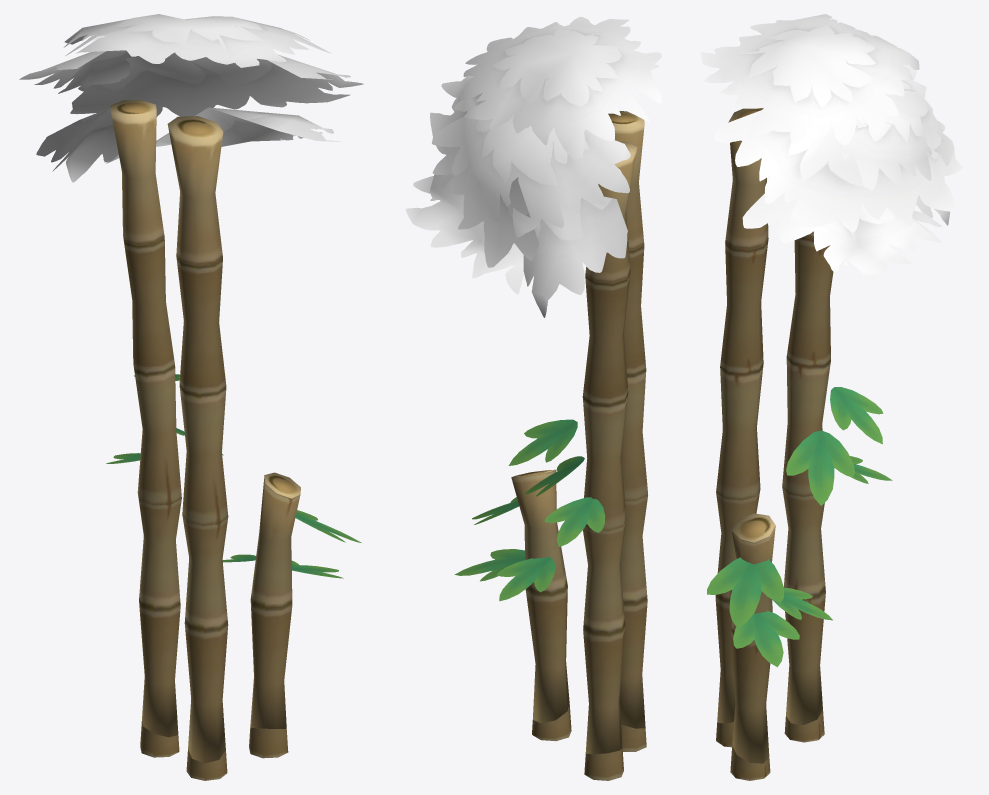
The model's file is BambooLarge.fbx.
3 renders of one model, left to right at view 1: azimuth 30°, elevation 25°; view 2: azimuth 150°, elevation 25°; view 3: azimuth 270°, elevation 25°, orthographic. The views are drawn at different scales.
Visible parts, largest first — view 1: BambooLarge, BambooStump; view 2: BambooLarge, BambooStump; view 3: BambooLarge, BambooStump.
Boxes of the visible parts, bbox=[...] form: BambooLarge: bbox=[19, 14, 363, 763]; BambooStump: bbox=[140, 721, 288, 780]; BambooLarge: bbox=[405, 16, 661, 754]; BambooStump: bbox=[532, 703, 646, 780]; BambooLarge: bbox=[700, 14, 962, 763]; BambooStump: bbox=[716, 710, 824, 780].
Size of what is drawn, in the model's own units: 1.54 by 3.78 by 1.34.
